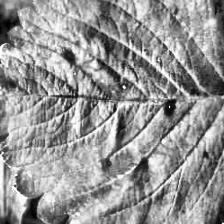Leaf Spot: (0, 0, 224, 224), (172, 94, 224, 224), (190, 0, 224, 130), (0, 141, 30, 224)
